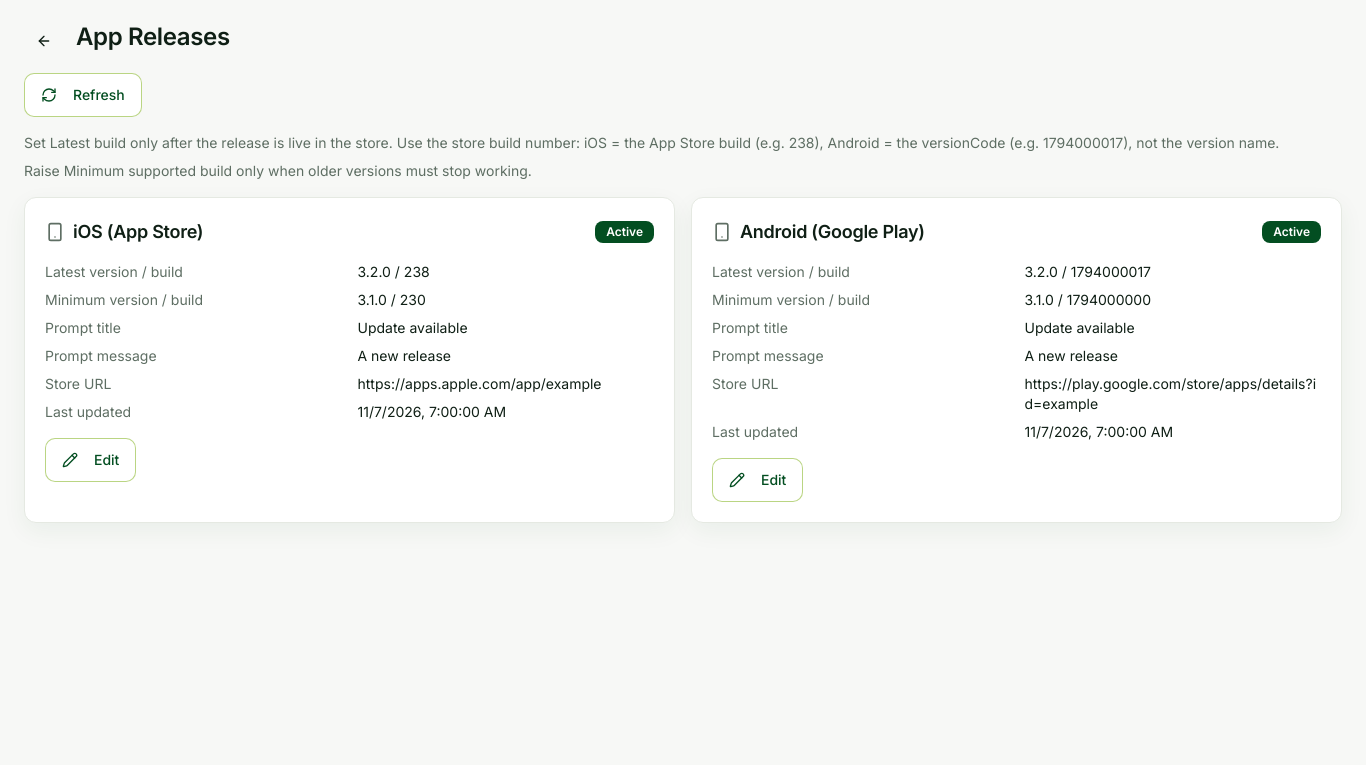
Test: App Releases access and confirmation › blocks repeated submit while saving
Click the button "Edit" below "https://apps.apple.com/app/example". click: (91, 460)
box: [45,438,136,482]
(page scrolled)
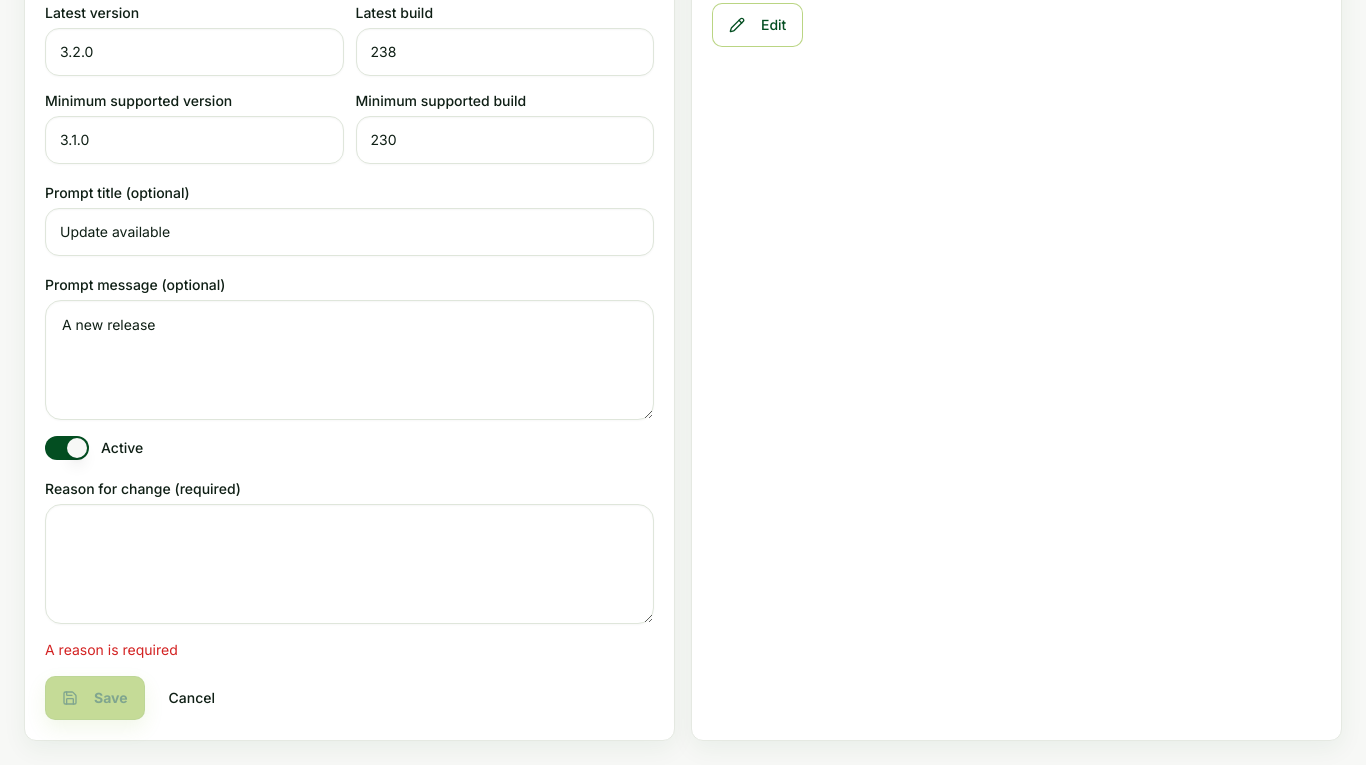
Type "Release verified in store" into the text box labelled "Reason for change (required)". click: (350, 564)
box: [45,504,654,624]
(page scrolled)
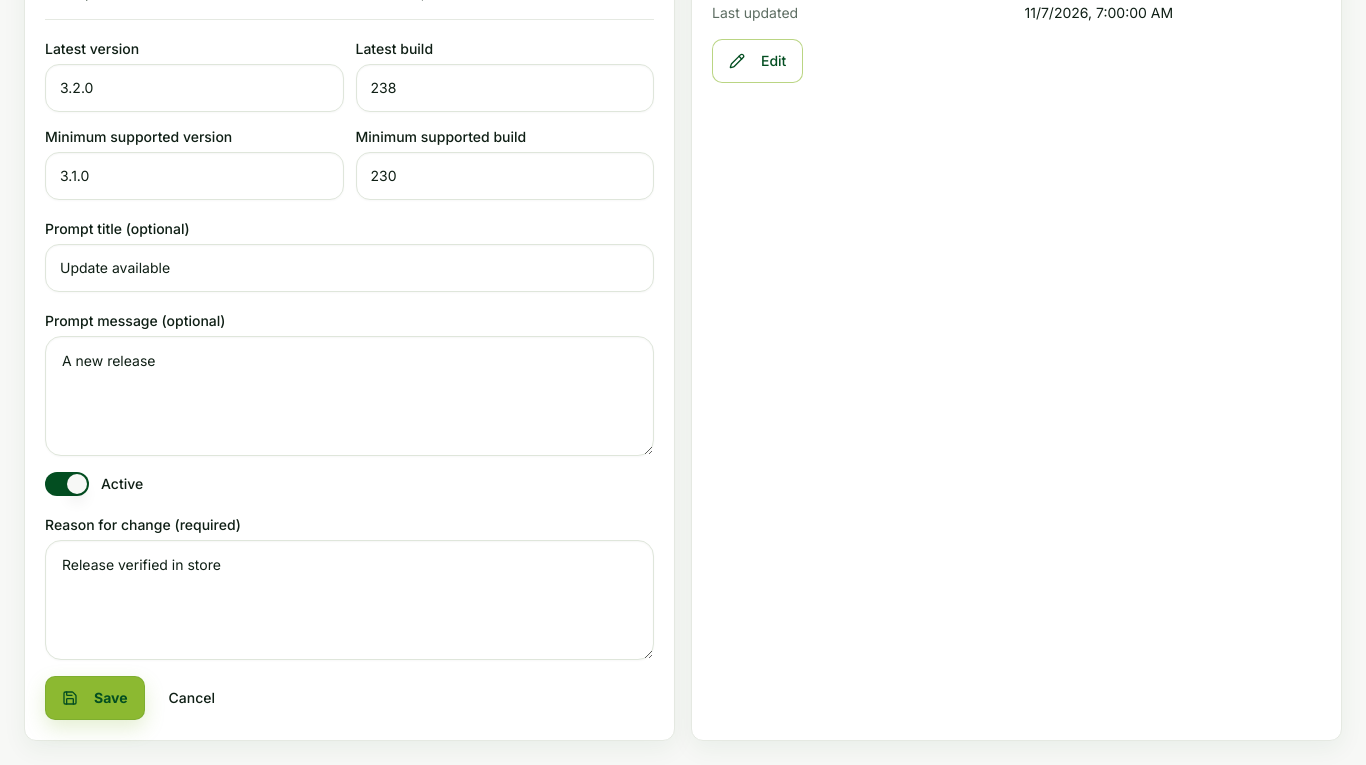
Click the button "Save". click: (95, 698)
box: [45,676,144,720]
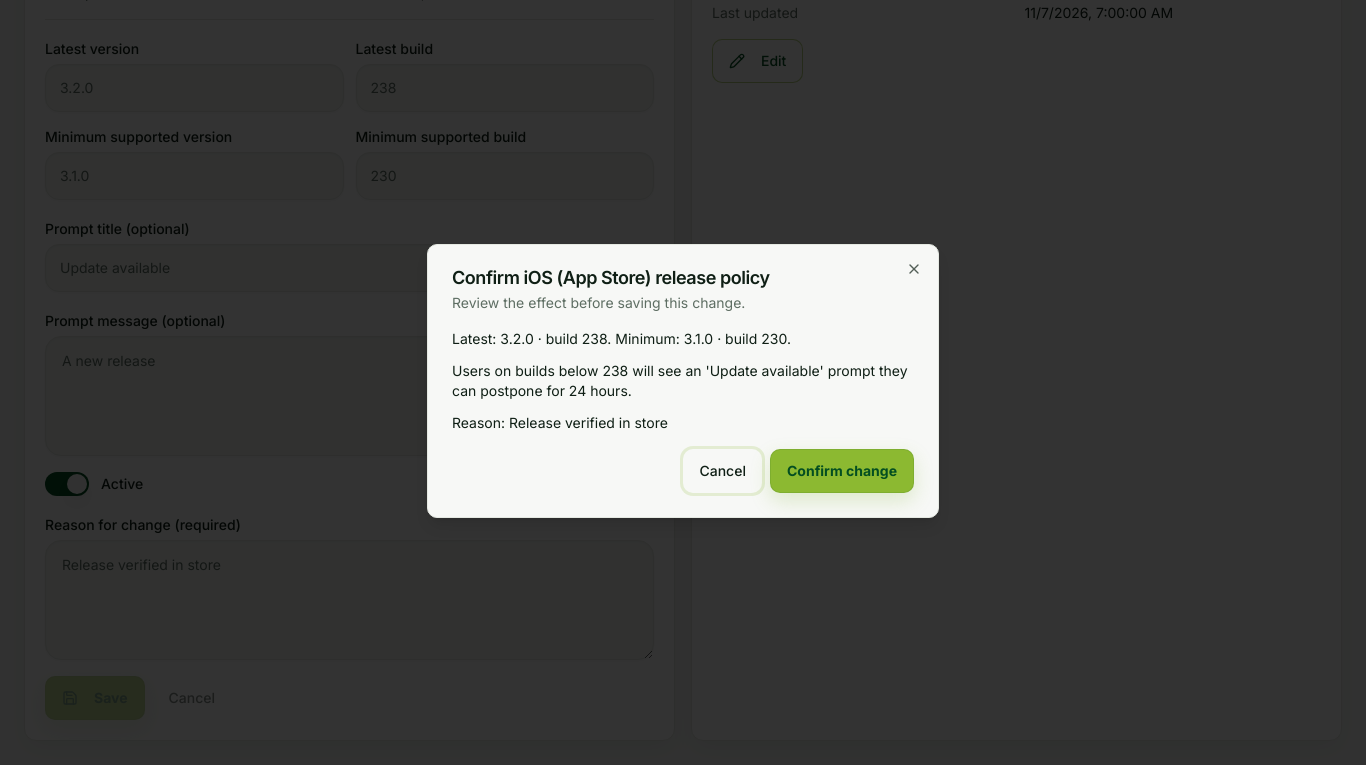
Click the button "Confirm change". click: (842, 471)
box: [770,449,914,493]
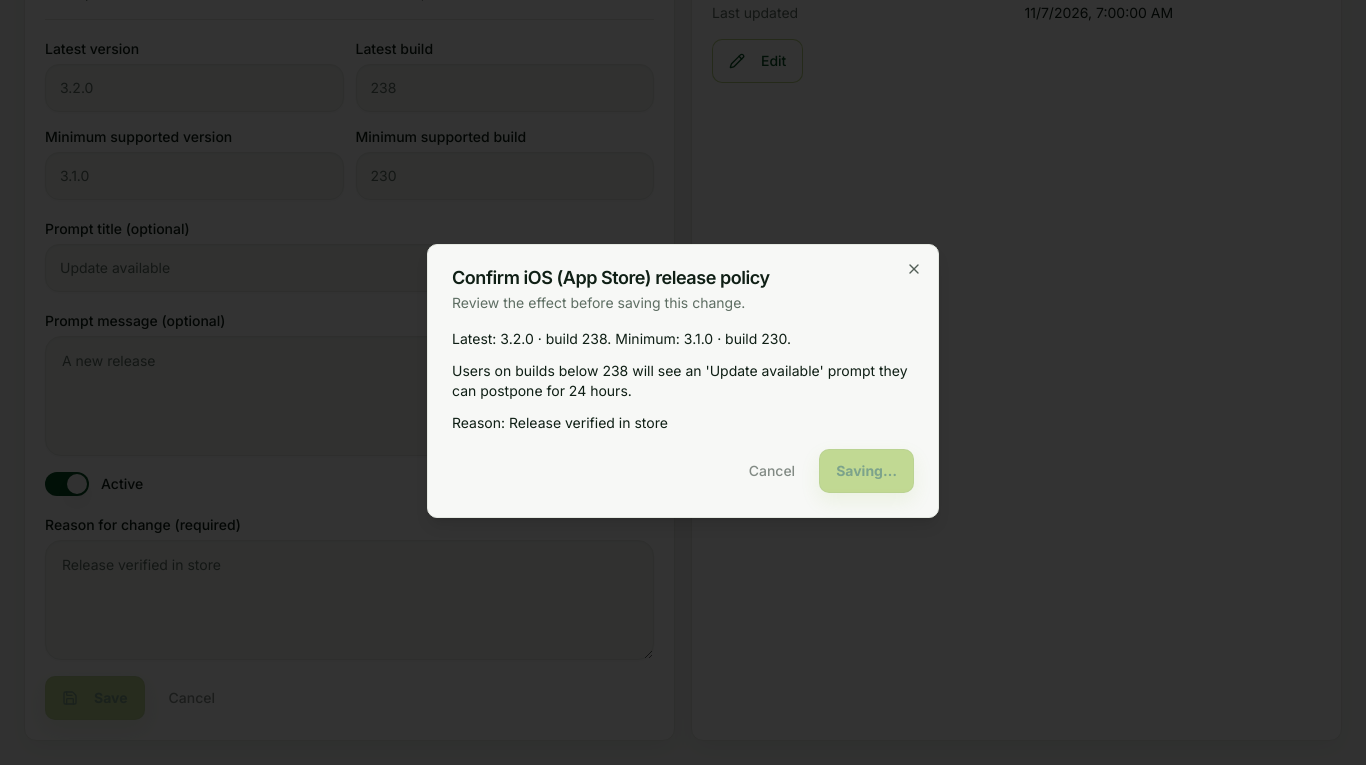
Check: the button "Saving…" is disabled, box [819,449,914,493]
